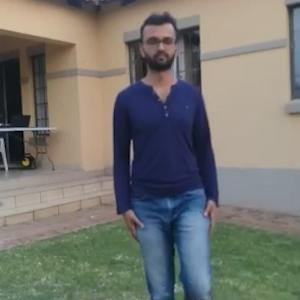follow: (112, 23, 210, 299)
